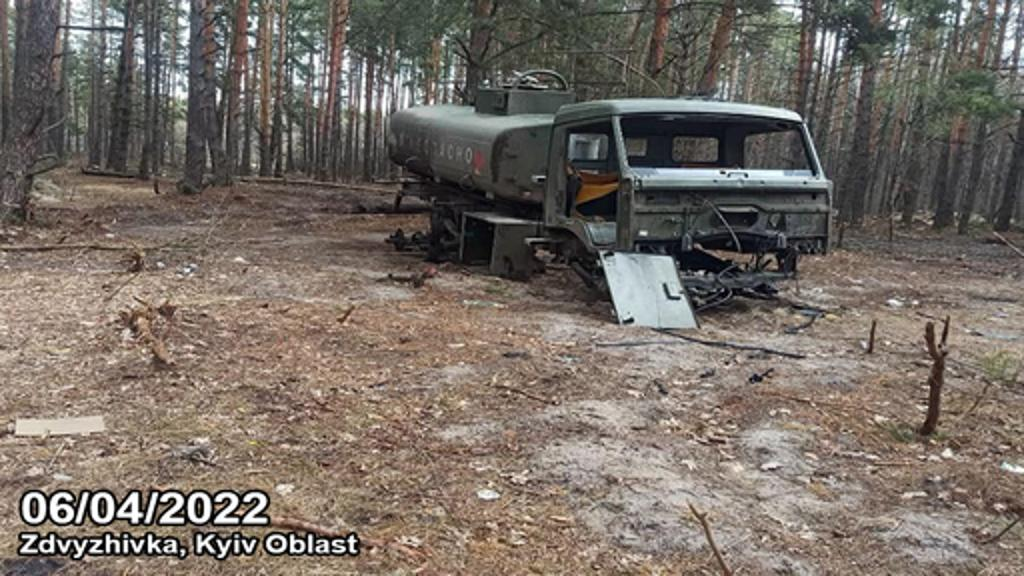TRUCK: (370, 58, 834, 330)
